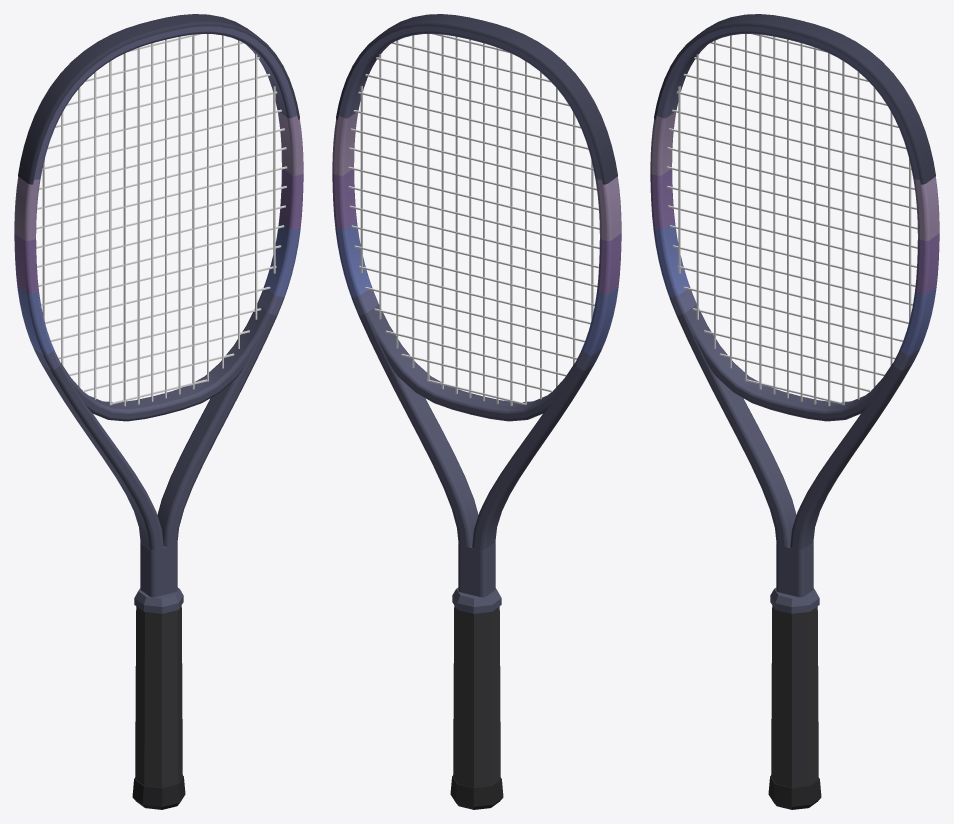
Rendered from yonex-percept-game-2025.glb.
3 renders of one model, left to right at view 1: azimuth 30°, elevation 25°; view 2: azimuth 150°, elevation 25°; view 3: azimuth 330°, elevation 25°, orthographic.
Parts seen in each view (by area): view 1: frame, strings_mains, strings_crosses, grip, bumper, butt_cap, collar; view 2: frame, strings_mains, strings_crosses, grip, bumper, butt_cap, collar; view 3: frame, strings_mains, strings_crosses, grip, bumper, butt_cap, collar.
Part boxes in pixels (bbox=[...]): frame: bbox=[14, 26, 303, 597]; strings_mains: bbox=[42, 34, 275, 406]; strings_crosses: bbox=[36, 34, 287, 404]; grip: bbox=[135, 606, 182, 787]; bumper: bbox=[18, 14, 299, 184]; butt_cap: bbox=[132, 776, 185, 809]; collar: bbox=[134, 587, 183, 613]; frame: bbox=[332, 26, 621, 597]; strings_mains: bbox=[360, 34, 593, 405]; strings_crosses: bbox=[348, 34, 599, 405]; grip: bbox=[453, 606, 500, 787]; bumper: bbox=[336, 14, 617, 184]; butt_cap: bbox=[450, 776, 503, 809]; collar: bbox=[452, 587, 501, 613]; frame: bbox=[650, 26, 939, 597]; strings_mains: bbox=[678, 34, 911, 406]; strings_crosses: bbox=[666, 34, 917, 404]; grip: bbox=[771, 606, 818, 787]; bumper: bbox=[654, 14, 935, 184]; butt_cap: bbox=[768, 776, 821, 809]; collar: bbox=[770, 587, 819, 613].
Size of the model in its own units: 0.2583 by 0.6861 by 0.0396.
